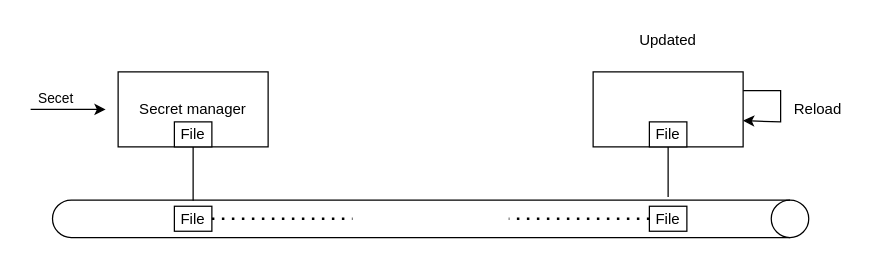
The diagram is 878 pixels wide and 259 high, and some of its shapes have lost their labels. Here are the shapes that lost their labels. From the top down, the box of each, then its label:
(592, 71, 743, 147): Container X
(51, 199, 809, 238): Docker Socket
